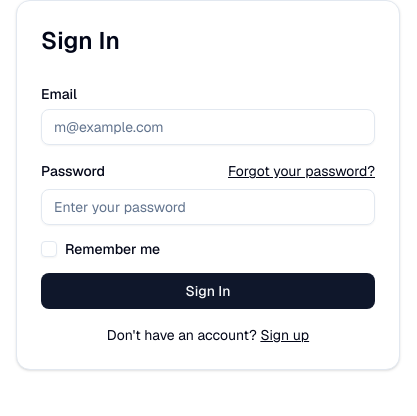
Test case: LoginForm › when user enters invalid data › should validate email format
Note: Enter invalid email
In the field labelled "Email": (208, 127) 41,109 -> 375,145, type "invalid-email"
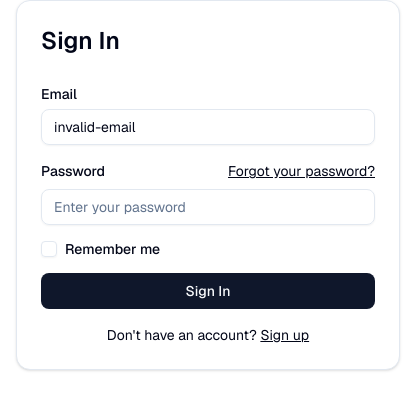
In the password field labelled "Password": (208, 207) 41,189 -> 375,225, type "password"
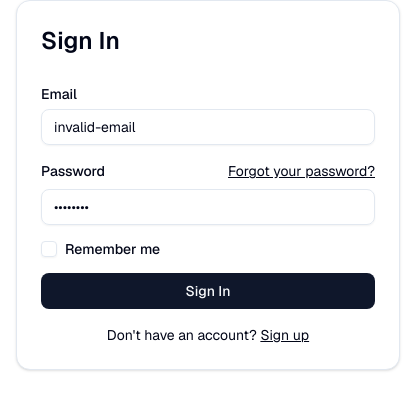
Note: Submit form
Click the button "Sign In": (208, 291) 41,273 -> 375,309
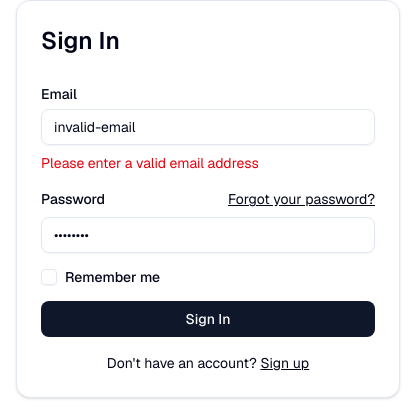
Expected: the text "Please enter a valid email address" is shown, 41,154 -> 259,172
